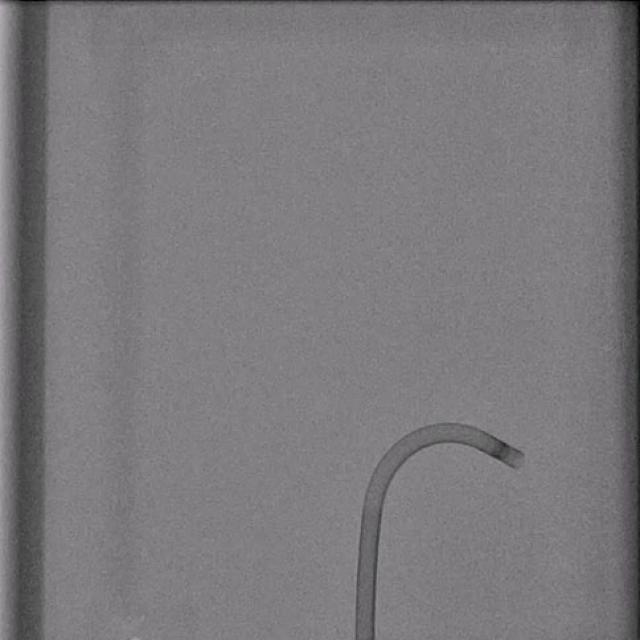bend: (362, 492, 386, 506)
entry: (356, 634, 374, 640)
marker: (491, 442, 513, 460)
tip: (512, 453, 528, 470)
